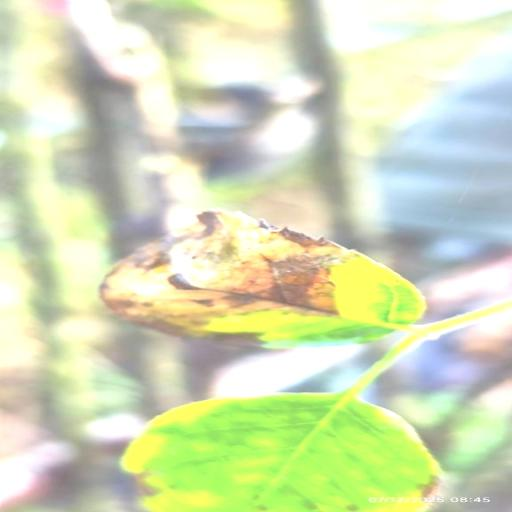thrip: (101, 210, 424, 348)
